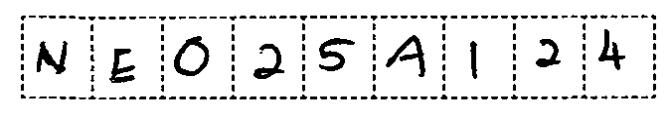0: (169, 30, 215, 78)
1: (454, 35, 494, 84)
2: (245, 39, 290, 85), (528, 36, 567, 73)
4: (593, 26, 630, 72)
5: (313, 32, 358, 75)
A: (382, 30, 434, 82)
E: (103, 43, 142, 88)
N: (31, 33, 74, 82)
